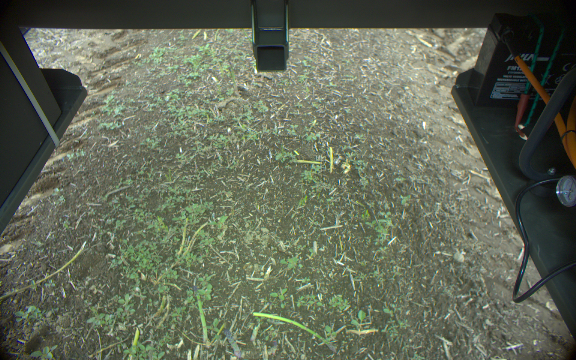aspa: (188, 285, 209, 345), (222, 328, 243, 360)
